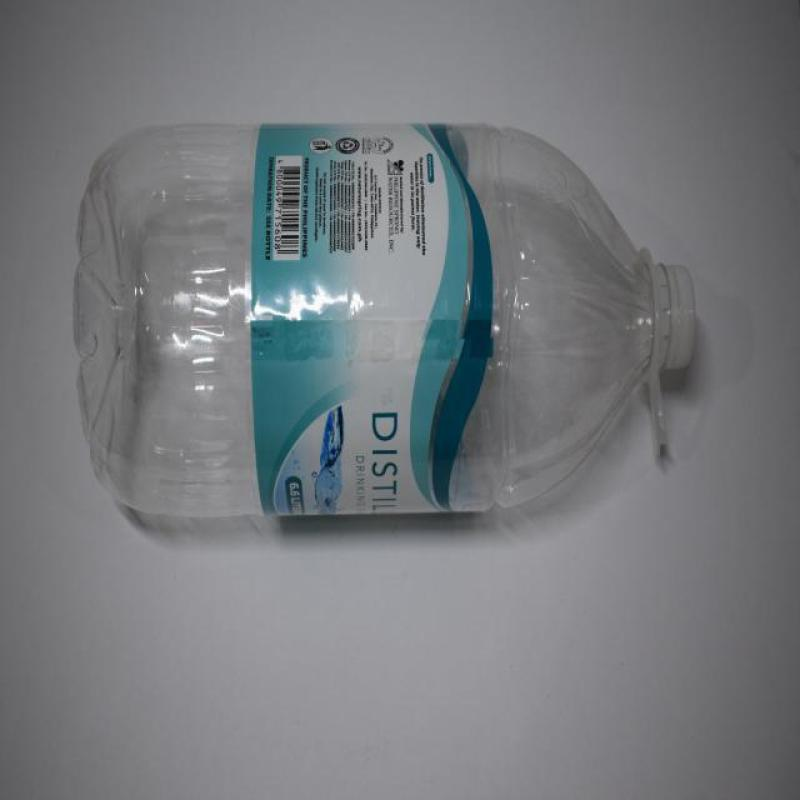botella: (68, 123, 697, 522)
